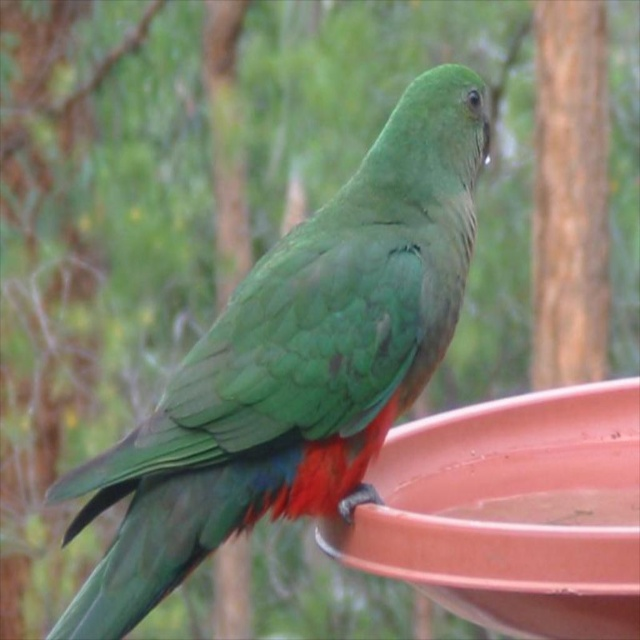Parrot: (41, 61, 490, 639)
